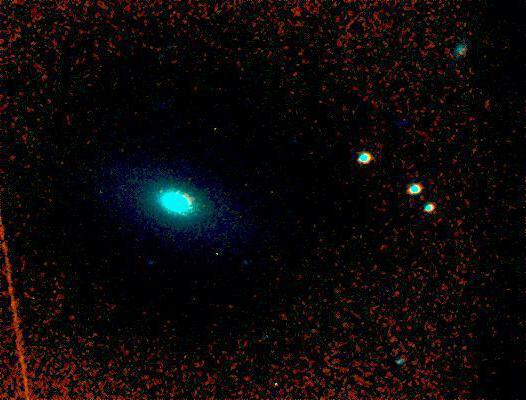star: (219, 289, 249, 319)
